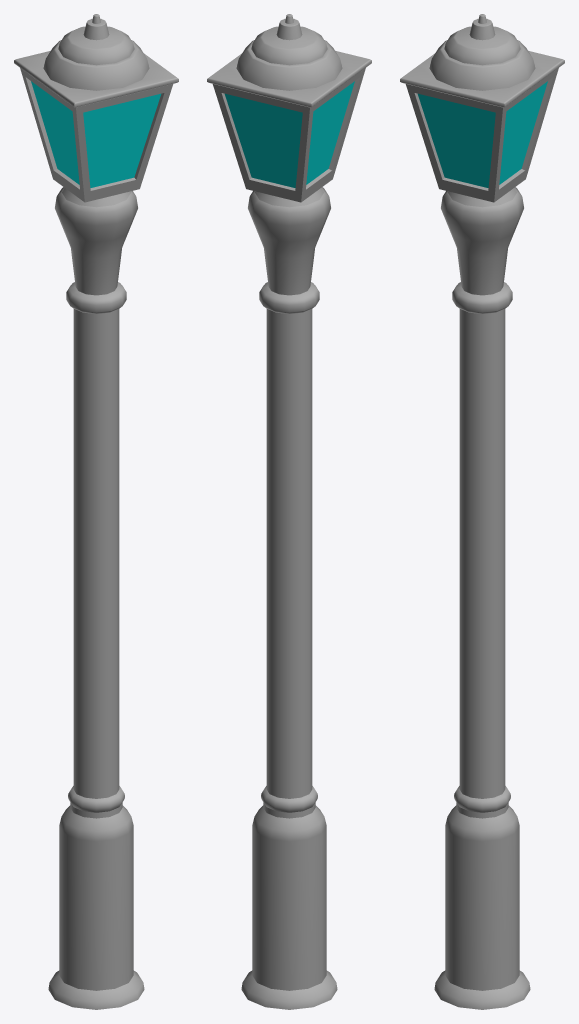
File: Farola.fbx
3 renders of one model, left to right at view 1: azimuth 30°, elevation 25°; view 2: azimuth 150°, elevation 25°; view 3: azimuth 330°, elevation 25°, orthographic.
Parts seen in each view (by area): view 1: pCylinder3; view 2: pCylinder3; view 3: pCylinder3.
Part boxes in pixels (box(x1,y1,x2,y2)): pCylinder3: box(14, 14, 178, 1009); pCylinder3: box(207, 14, 371, 1009); pCylinder3: box(400, 14, 564, 1009).
Bounding box in the file's own units: 73.56 × 655 × 73.56.
